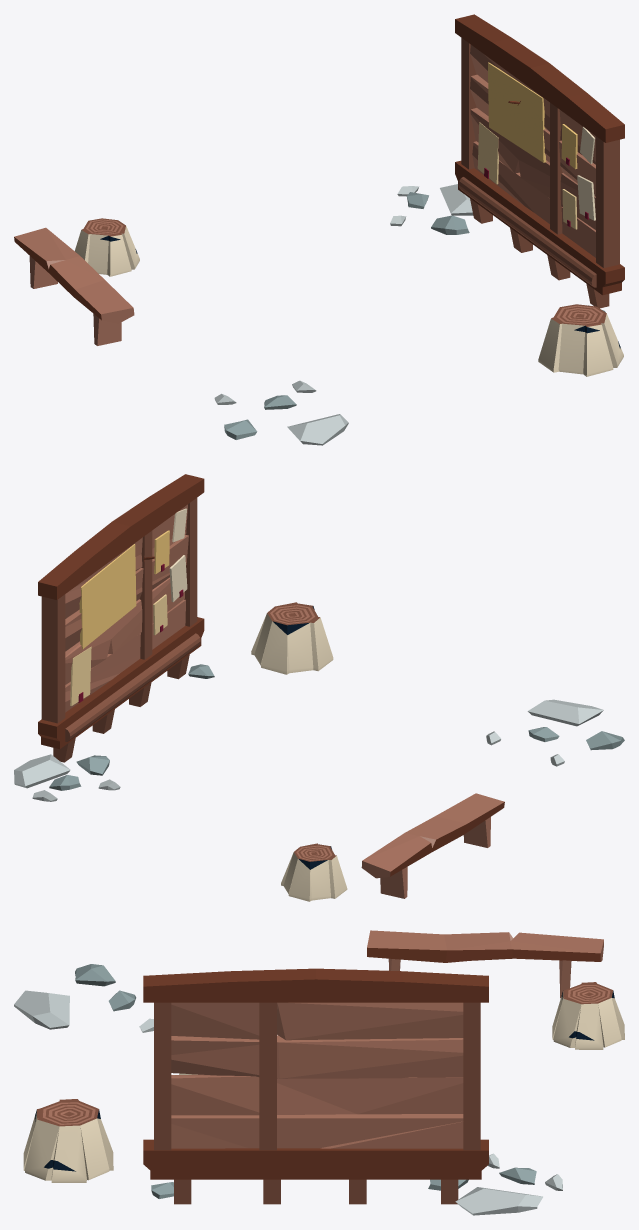
File: SM_NoticeBoard_LODS_Group.fbx
3 views of the same model, one above another, from view 1: azimuth 30°, elevation 25°; view 2: azimuth 150°, elevation 25°; view 3: azimuth 270°, elevation 25° (orthographic). The views are drawn at different scales.
Parts seen in each view (by area): view 1: SM_NoticeBoard_LOD0; view 2: SM_NoticeBoard_LOD0; view 3: SM_NoticeBoard_LOD0.
Boxes of the visible parts, bbox=[...] form: SM_NoticeBoard_LOD0: bbox=[14, 14, 624, 445]; SM_NoticeBoard_LOD0: bbox=[14, 474, 624, 901]; SM_NoticeBoard_LOD0: bbox=[14, 930, 624, 1215].
Size of the model in its own units: 355 by 372 by 160.
